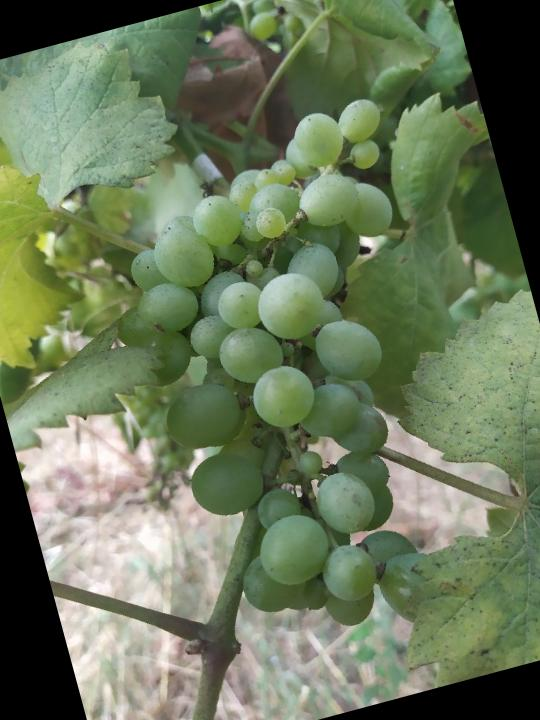grape: (73, 90, 510, 670)
